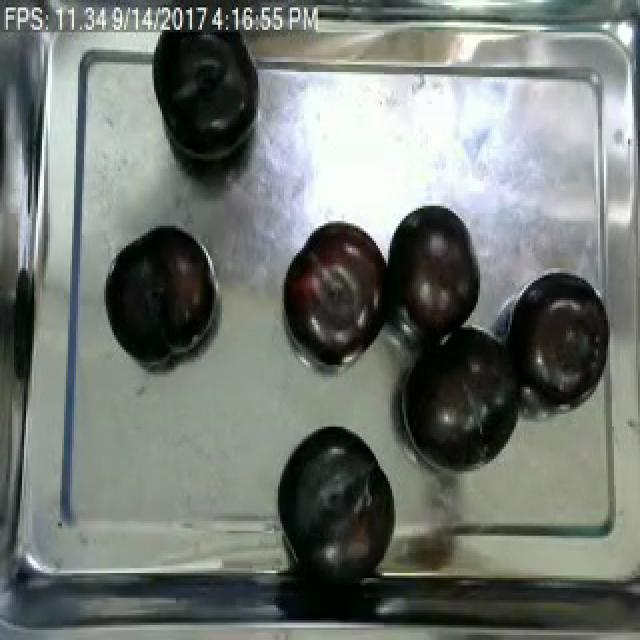Fruit: (398, 322, 532, 472), (270, 422, 398, 568), (146, 25, 266, 171), (276, 216, 392, 367), (100, 218, 216, 367), (504, 270, 614, 404), (384, 201, 484, 337)
